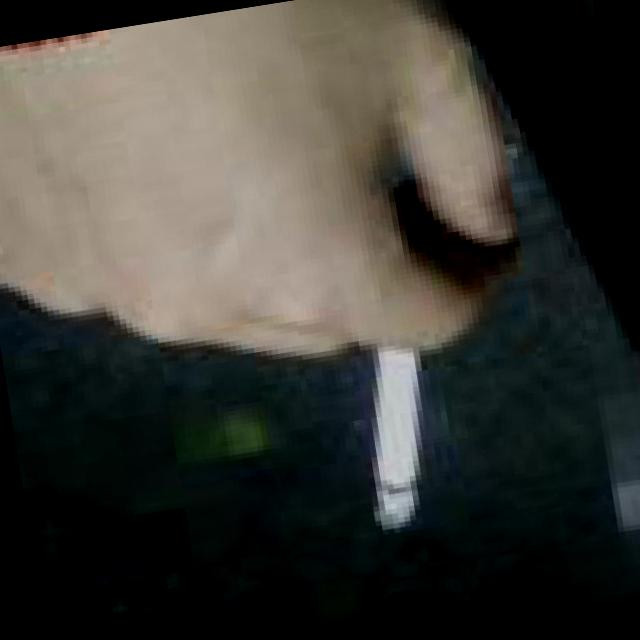cigarette: (304, 266, 500, 546)
